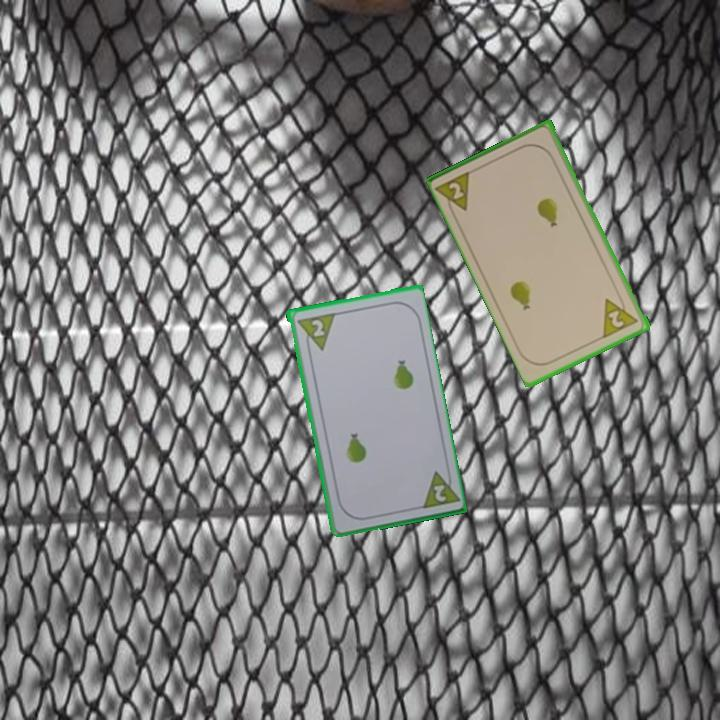2p: (599, 290, 641, 341), (293, 309, 337, 355), (416, 465, 460, 511), (445, 178, 467, 203)
